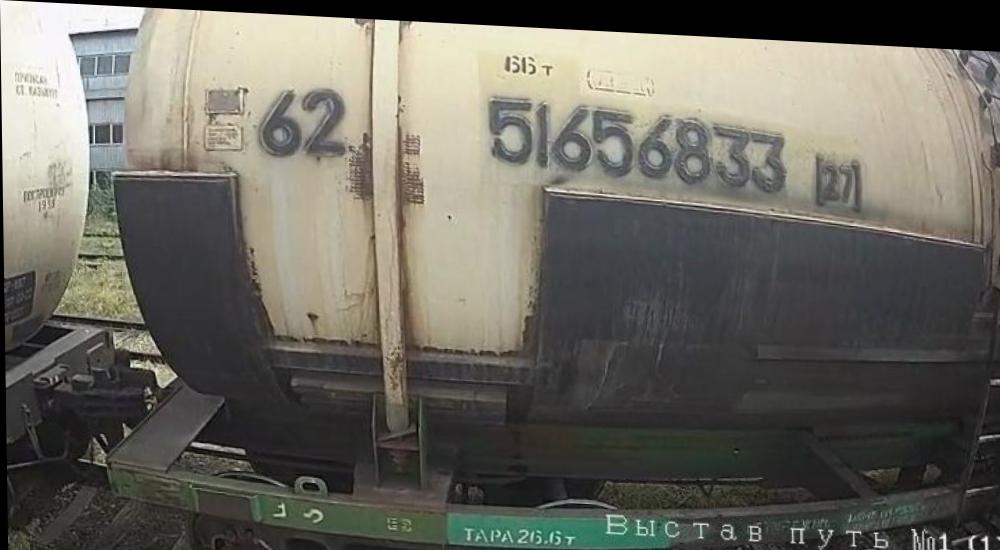Wagon-number: (482, 86, 794, 192)
